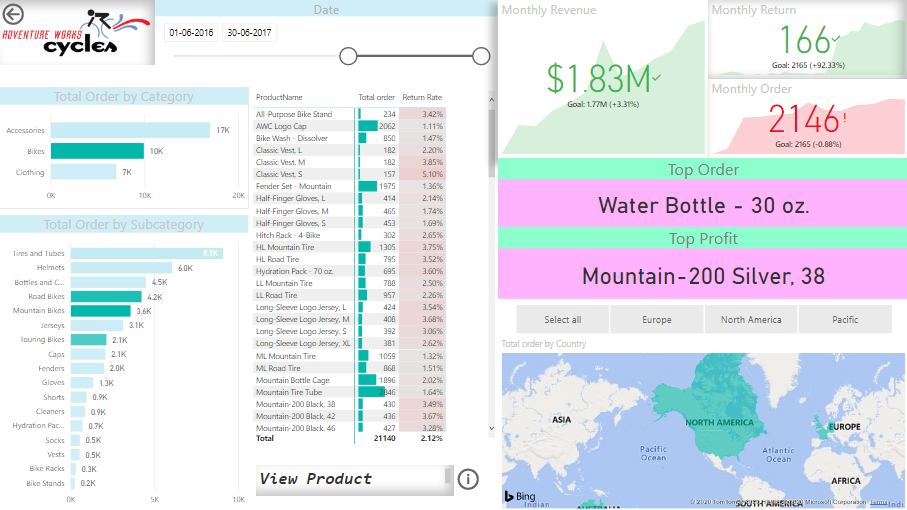

The page's visual inventory and layout, read from the dashboard file:
{"tool":"powerbi","page":{"name":"Excet Summary","canvas":[1280,720],"ordinal":1},"visuals":[{"type":"image","box":[0,0,220.1,92.4],"z":0},{"type":"barChart","title":"Total Order by Subcategory","fields":{"Y":["AW_Sales.Total order"],"Category":["AW_Product_Subcategory_Lookup.SubcategoryName"]},"box":[0,302.4,351.1,418.3],"z":1000},{"type":"actionButton","box":[0,0,100,40],"z":2000},{"type":"barChart","title":"Total Order by Category","fields":{"Category":["AW_Product_Subcategory_Lookup.SubcategoryName","AW_Product_Category_Lookup.CategoryName"],"Y":["AW_Sales.Total order"]},"box":[0,122.6,351.1,171.3],"z":3000},{"type":"pivotTable","fields":{"Values":["AW_Sales.Total order","AW_Returns.Return Rate"],"Rows":["AW_Product_Lookup.ProductName","AW_Product_Category_Lookup.CategoryName","AW_Product_Subcategory_Lookup.SubcategoryName"]},"box":[351.1,122.6,351.1,507.3],"z":4000},{"type":"slicer","title":"Date","fields":{"Values":["AW_Calendar_Lookup.Date"]},"box":[220.1,0,482.1,122.6],"z":5000},{"type":"kpi","title":"Monthly Revenue","fields":{"TrendLine":["AW_Calendar_Lookup.Start of Month"],"Goal":["AW_Sales.Prev Month Revenue"],"Indicator":["AW_Sales.Total Revenue"]},"box":[702.2,0,295.6,221.7],"z":6000},{"type":"kpi","title":"Monthly Order","fields":{"TrendLine":["AW_Calendar_Lookup.Start of Month"],"Indicator":["AW_Sales.Total order"],"Goal":["AW_Sales.Prev Month Order"]},"box":[997.8,110.9,282.2,110.9],"z":7000},{"type":"kpi","title":"Monthly Return","fields":{"TrendLine":["AW_Calendar_Lookup.Start of Month"],"Goal":["AW_Sales.Prev Month Order"],"Indicator":["AW_Returns.Total return"]},"box":[997.8,0,282.2,110.9],"z":8000},{"type":"card","title":"Top Order","fields":{"Values":["Min(AW_Product_Lookup.ProductName)"]},"box":[702.2,221.7,577.8,97.4],"z":9000},{"type":"card","title":"Top Profit","fields":{"Values":["Min(AW_Product_Lookup.ProductName)"]},"box":[702.2,319.2,577.8,100.8],"z":10000},{"type":"filledMap","fields":{"Category":["AW_Territories_Lookup.Country"]},"box":[702.2,475.4,577.8,245.2],"z":11000},{"type":"slicer","fields":{"Values":["AW_Territories_Lookup.Continent"]},"box":[702.2,421.6,577.8,53.8],"z":12000},{"type":"textbox","box":[361.2,653.4,278.8,43.7],"z":13000},{"type":"actionButton","box":[640,653.4,50.4,40.3],"z":14000}]}

Visuals, with their boxes in screenshot pixels (x1, y1, x2, y2), scaled from the page's 1280x720 canvas onto the 907x510 screenshot:
image: <box>0,0,156,65</box>
"Total Order by Subcategory" barChart: <box>0,214,249,509</box>
actionButton: <box>0,0,71,28</box>
"Total Order by Category" barChart: <box>0,87,249,208</box>
pivotTable - AW_Sales.Total order x AW_Returns.Return Rate: <box>249,87,498,446</box>
"Date" slicer: <box>156,0,498,87</box>
"Monthly Revenue" kpi: <box>498,0,707,157</box>
"Monthly Order" kpi: <box>707,79,906,157</box>
"Monthly Return" kpi: <box>707,0,906,79</box>
"Top Order" card: <box>498,157,906,226</box>
"Top Profit" card: <box>498,226,906,298</box>
filledMap - AW_Territories_Lookup.Country: <box>498,337,906,509</box>
slicer - AW_Territories_Lookup.Continent: <box>498,299,906,337</box>
textbox: <box>256,463,454,494</box>
actionButton: <box>454,463,489,491</box>
